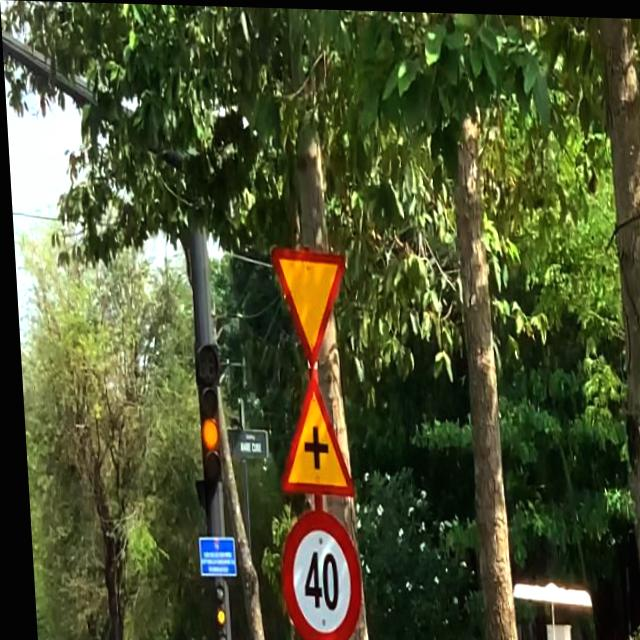Giao nhau voi duong uu tien: (266, 235, 348, 369)
Toc do toi da cho phep: (268, 510, 363, 640)
